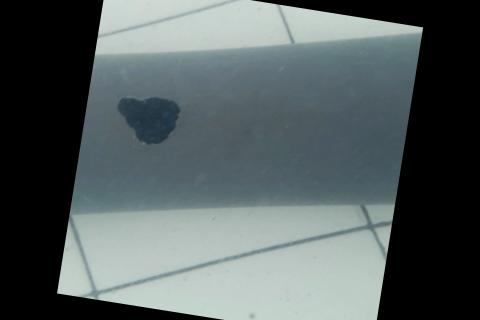kebocoran: (111, 88, 186, 150)
